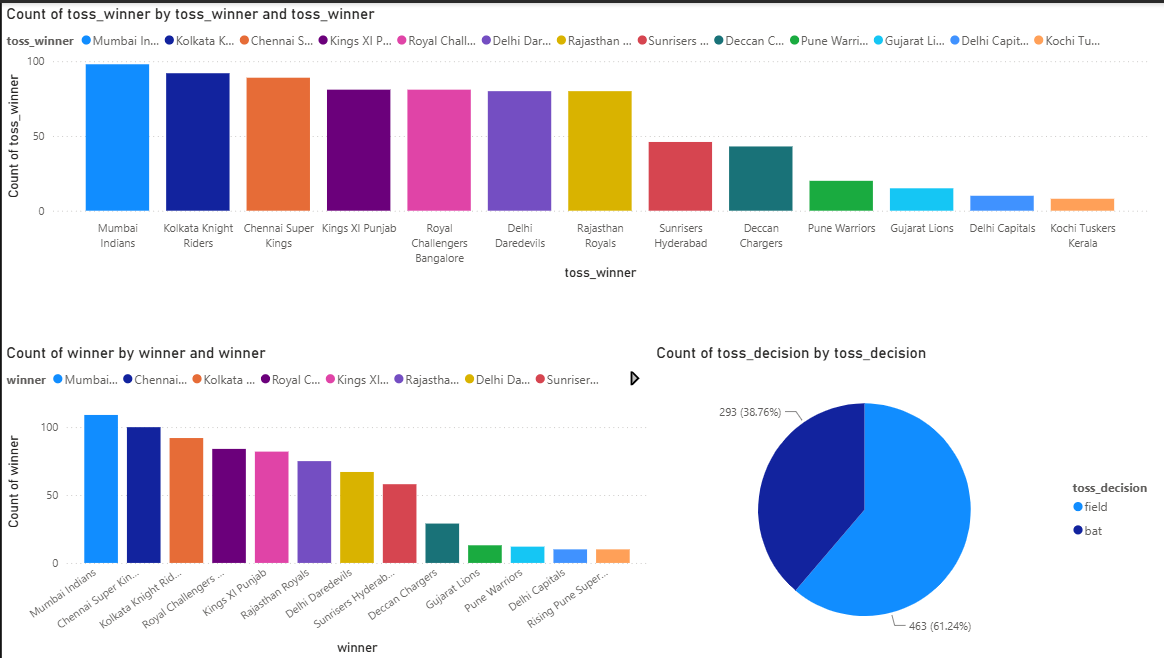

The page's visual inventory and layout, read from the dashboard file:
{"tool":"powerbi","page":{"name":"Page 2","canvas":[1280,720],"ordinal":1},"visuals":[{"type":"columnChart","fields":{"Category":["matches.toss_winner"],"Y":["CountNonNull(matches.toss_winner)"],"Series":["matches.toss_winner"]},"box":[0,1.4,1262.4,307.4],"z":0},{"type":"pieChart","fields":{"Category":["matches.toss_decision"],"Y":["CountNonNull(matches.toss_decision)"]},"box":[713.6,373.2,566.7,347.2],"z":1000},{"type":"columnChart","fields":{"Category":["matches.winner"],"Y":["CountNonNull(matches.winner)"],"Series":["matches.winner"]},"box":[0,373.2,713.6,347.2],"z":2000}]}

Visuals, with their boxes in screenshot pixels (x1, y1, x2, y2), scaled from the page's 1280x720 canvas onto the 1164x658 screenshot:
columnChart - matches.toss_winner x CountNonNull(matches.toss_winner): <region>0, 1, 1148, 282</region>
pieChart - matches.toss_decision x CountNonNull(matches.toss_decision): <region>649, 341, 1163, 657</region>
columnChart - matches.winner x CountNonNull(matches.winner): <region>0, 341, 649, 657</region>
